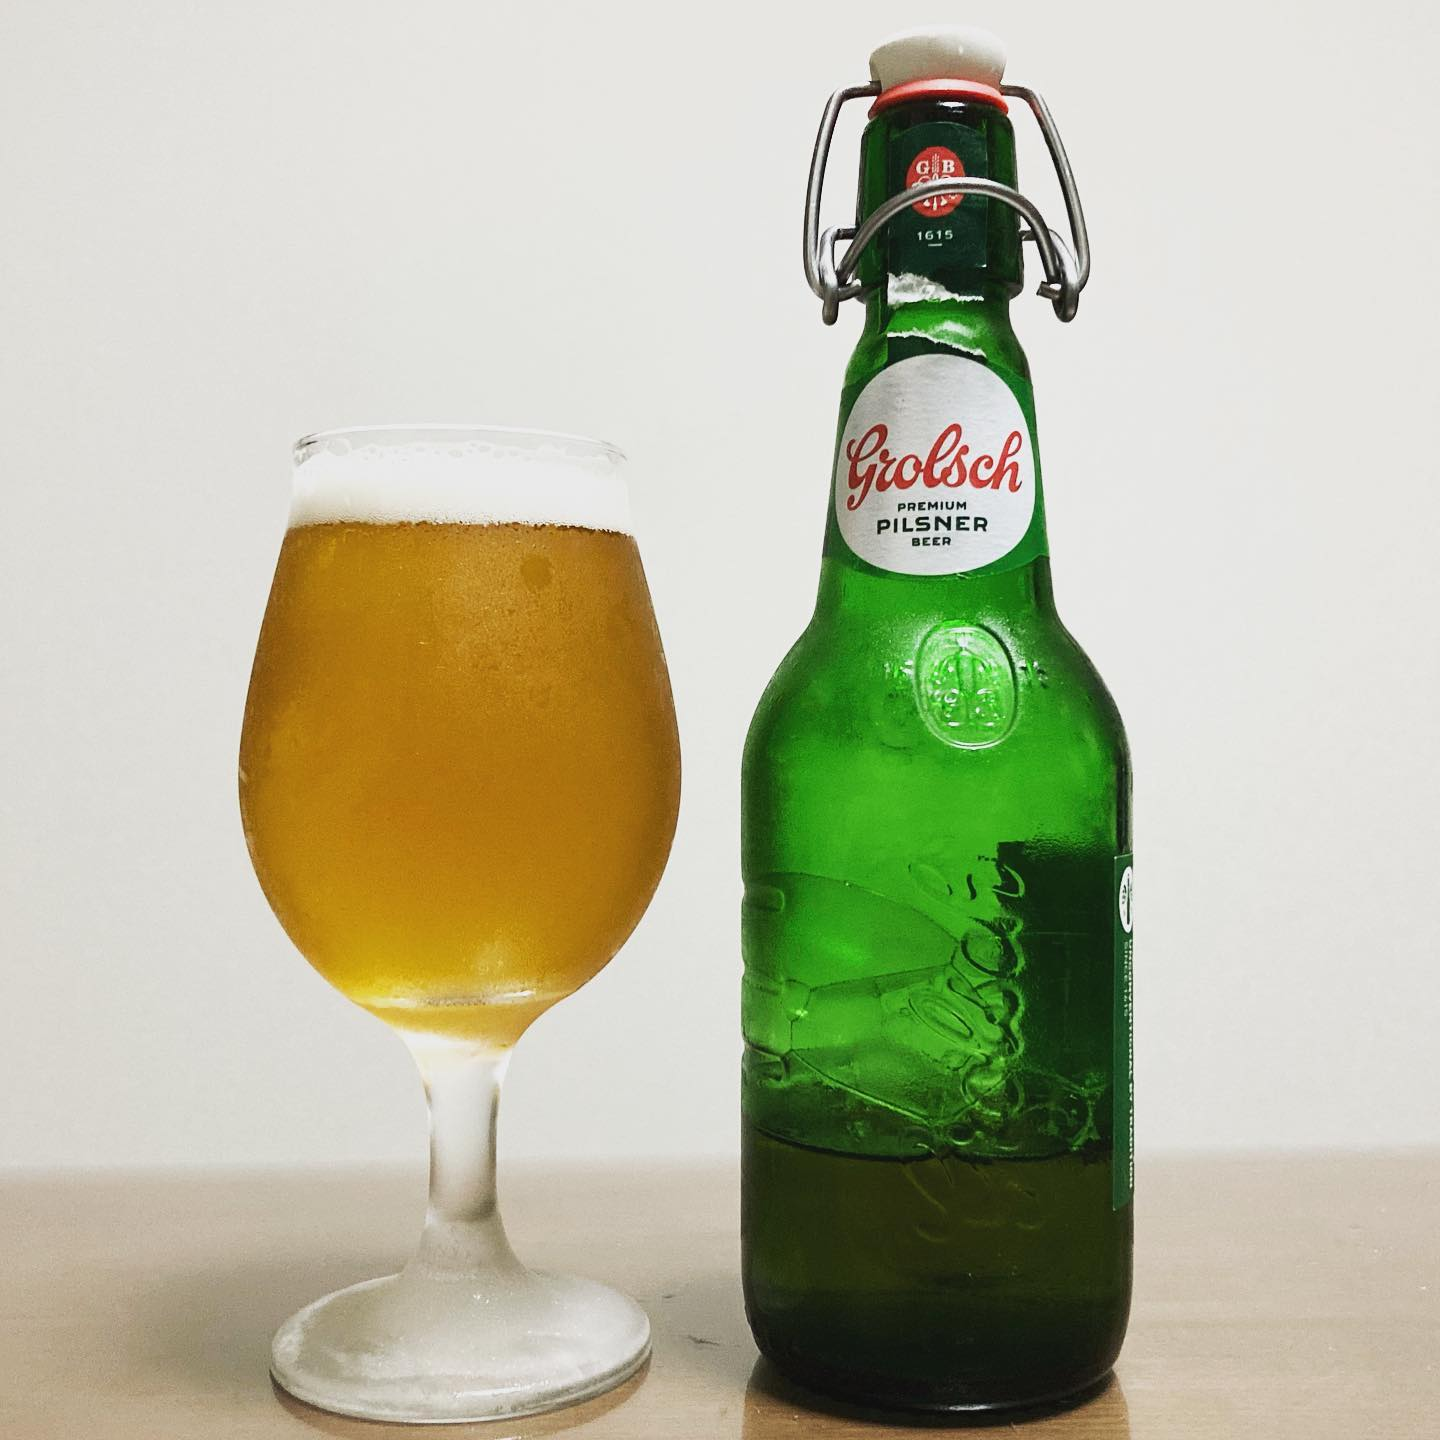alcohol: (731, 25, 1145, 1433), (229, 411, 691, 1433)
